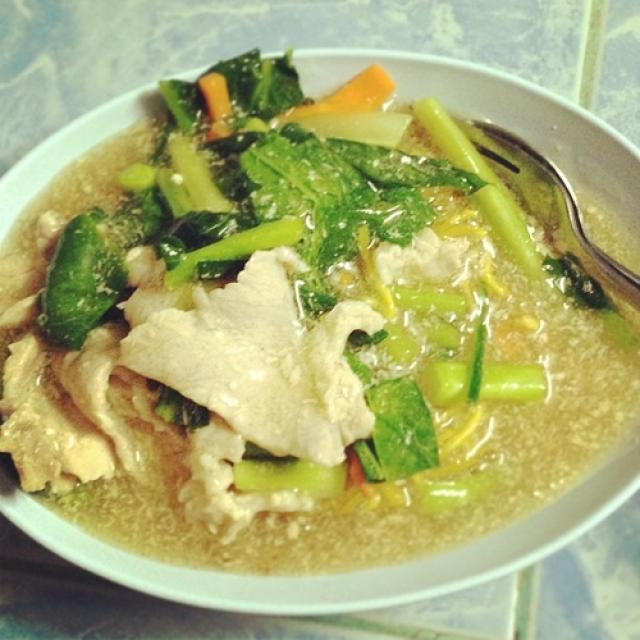面条主食: (18, 34, 627, 588)
